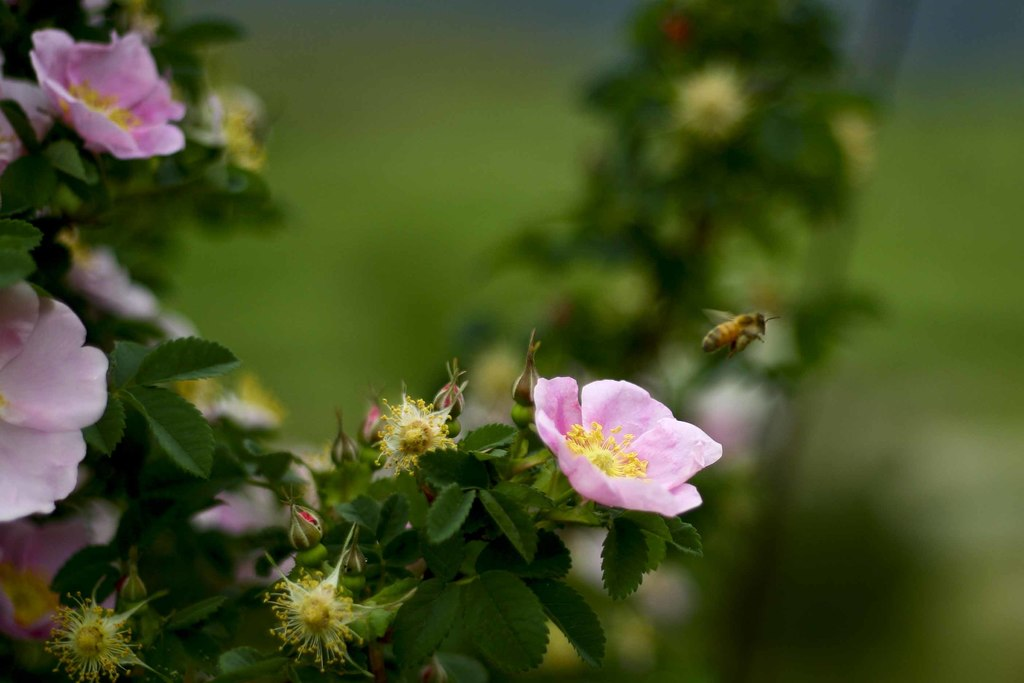face: (67, 65, 178, 159)
